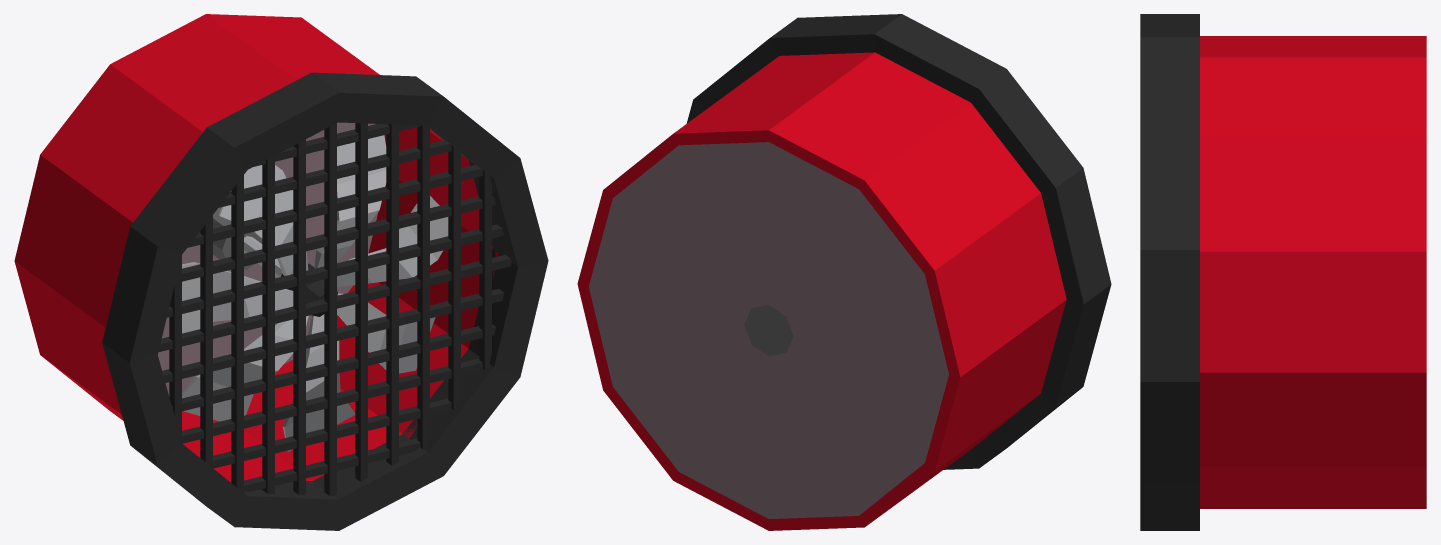
The model's file is Ventilator_01.fbx.
3 renders of one model, left to right at view 1: azimuth 30°, elevation 25°; view 2: azimuth 150°, elevation 25°; view 3: azimuth 270°, elevation 25°, orthographic. The views are drawn at different scales.
Visible parts, largest first — view 1: Cylinder.002, Cylinder.001, Cube, Cylinder.000; view 2: Cylinder.000, Cylinder.001, Cylinder.002, Cube; view 3: Cylinder.001, Cylinder.002.
Part boxes in pixels (x1,y1,x2,y2): Cylinder.002: [102, 72, 548, 530]; Cylinder.001: [14, 14, 498, 482]; Cube: [182, 135, 448, 451]; Cylinder.000: [158, 122, 378, 396]; Cylinder.000: [588, 142, 948, 519]; Cylinder.001: [577, 52, 1066, 530]; Cylinder.002: [686, 14, 1111, 469]; Cube: [744, 305, 793, 356]; Cylinder.001: [1200, 36, 1426, 508]; Cylinder.002: [1140, 14, 1199, 530].
Size of the model in its own units: 49.43 by 49.43 by 27.25.
